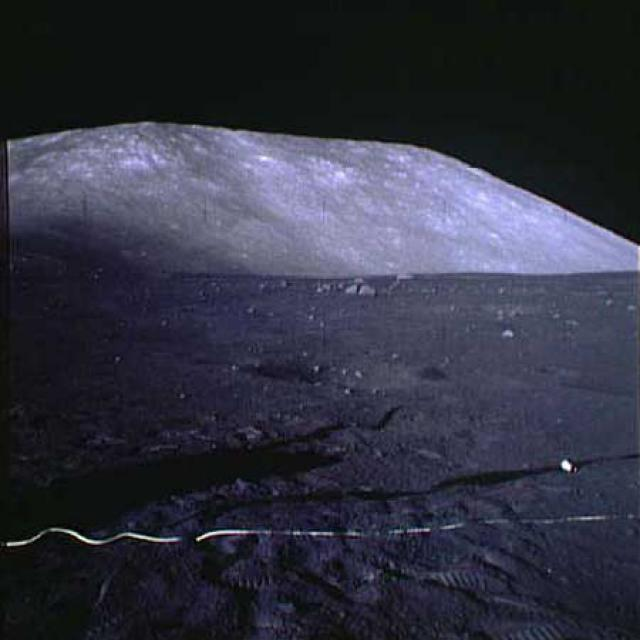crater: (233, 354, 409, 394)
rock: (347, 277, 381, 299), (395, 273, 416, 283)
